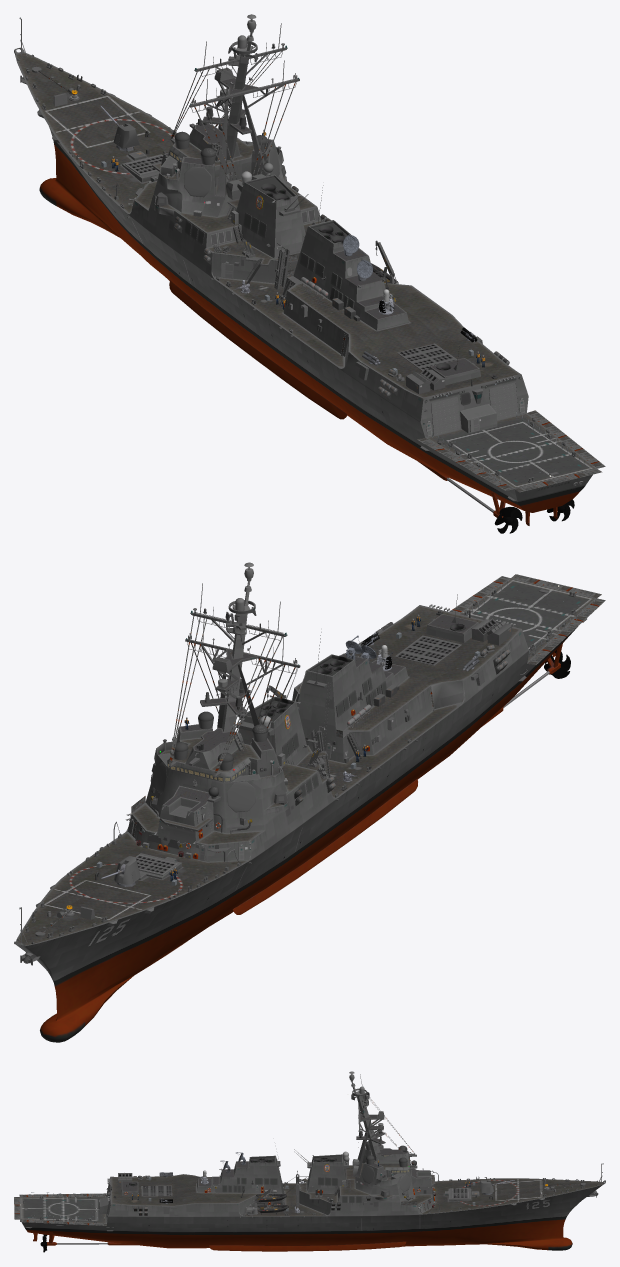
3 renders of one model, top to bottom at view 1: azimuth 30°, elevation 25°; view 2: azimuth 150°, elevation 25°; view 3: azimuth 270°, elevation 25°, orthographic. The views are drawn at different scales.
Visible parts, largest first — view 1: BurkeSource_Object_10.001, BurkeSource_Object_11.001, BurkeSource_Object_6.001, BurkeSource_Object_16.001; view 2: BurkeSource_Object_10.001, BurkeSource_Object_11.001, BurkeSource_Object_6.001; view 3: BurkeSource_Object_10.001, BurkeSource_Object_11.001, BurkeSource_Object_6.001.
Boxes of the visible parts, x1=… form: BurkeSource_Object_10.001: x1=14, y1=14, x2=596, y2=525; BurkeSource_Object_11.001: x1=37, y1=51, x2=605, y2=492; BurkeSource_Object_6.001: x1=113, y1=123, x2=279, y2=197; BurkeSource_Object_16.001: x1=344, y1=234, x2=574, y2=533; BurkeSource_Object_10.001: x1=14, y1=562, x2=596, y2=1042; BurkeSource_Object_11.001: x1=43, y1=574, x2=605, y2=932; BurkeSource_Object_6.001: x1=114, y1=711, x2=268, y2=884; BurkeSource_Object_10.001: x1=19, y1=1071, x2=605, y2=1251; BurkeSource_Object_11.001: x1=14, y1=1097, x2=580, y2=1225; BurkeSource_Object_6.001: x1=362, y1=1141, x2=493, y2=1192.
Bounding box in the file's own units: 21.88 × 51.72 × 155.
16 materials, 6 textured.
